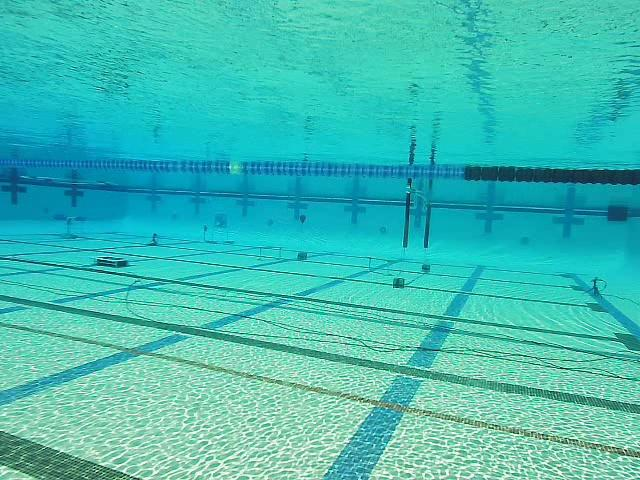dropper: (92, 254, 128, 268)
gate_leg_l: (402, 190, 413, 248)
gate_leg_r: (423, 206, 432, 248)
table: (51, 212, 86, 240)
torpedo: (213, 211, 228, 230)
